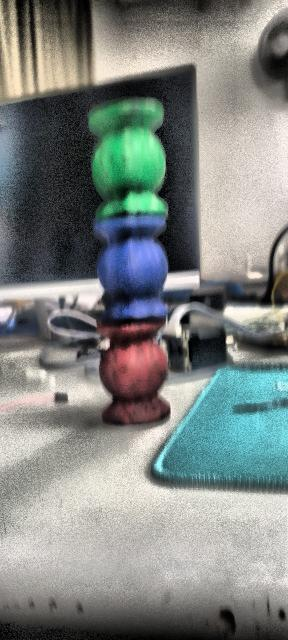blue: (91, 212, 175, 322)
green: (78, 99, 169, 213)
red: (93, 322, 169, 427)
